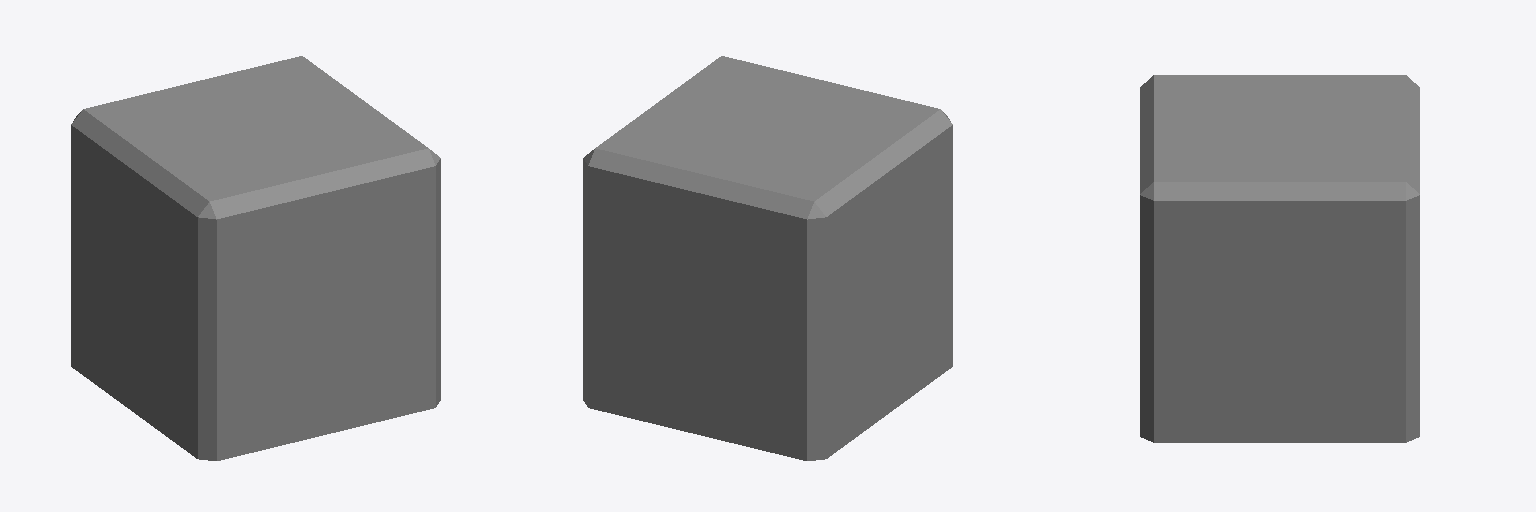
The model's file is PaintingNormals.obj.
3 views of the same model, side by side, from view 1: azimuth 30°, elevation 25°; view 2: azimuth 150°, elevation 25°; view 3: azimuth 270°, elevation 25° (orthographic).
Parts seen in each view (by area): view 1: Box001_Box001; view 2: Box001_Box001; view 3: Box001_Box001.
Boxes of the visible parts, box(x1,y1,x2,y2) form: Box001_Box001: box(71, 56, 440, 460); Box001_Box001: box(583, 56, 952, 460); Box001_Box001: box(1140, 75, 1419, 442).
Size of the model in its own units: 1 by 1 by 1.